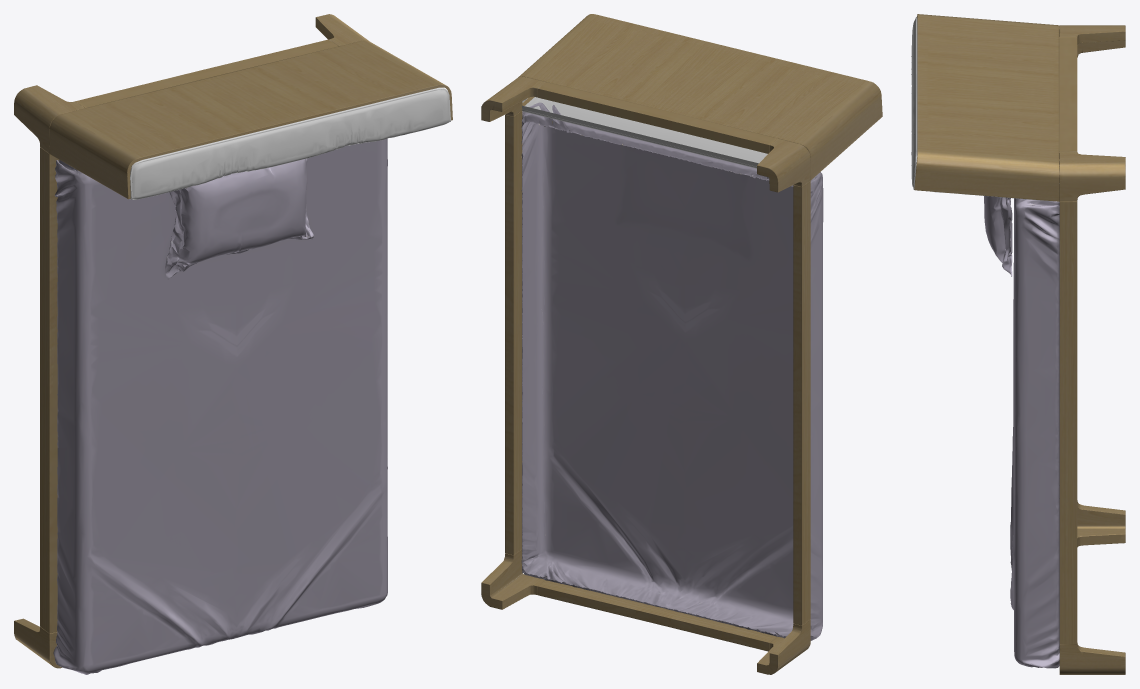
File: raw_model.glb
The picture shows the model from 3 angles, left to right: view 1: azimuth 30°, elevation 25°; view 2: azimuth 150°, elevation 25°; view 3: azimuth 270°, elevation 25°; orthographic projection. The views are drawn at different scales.
Parts seen in each view (by area): view 1: raw_model.041; view 2: raw_model.041; view 3: raw_model.041.
Part boxes in pixels (x1,y1,x2,y2): raw_model.041: (14,14,452,674); raw_model.041: (481,14,882,674); raw_model.041: (911,14,1125,674).
Bounding box in the file's own units: 1.37 × 2.28 × 0.8461.
1 material, 1 textured.
